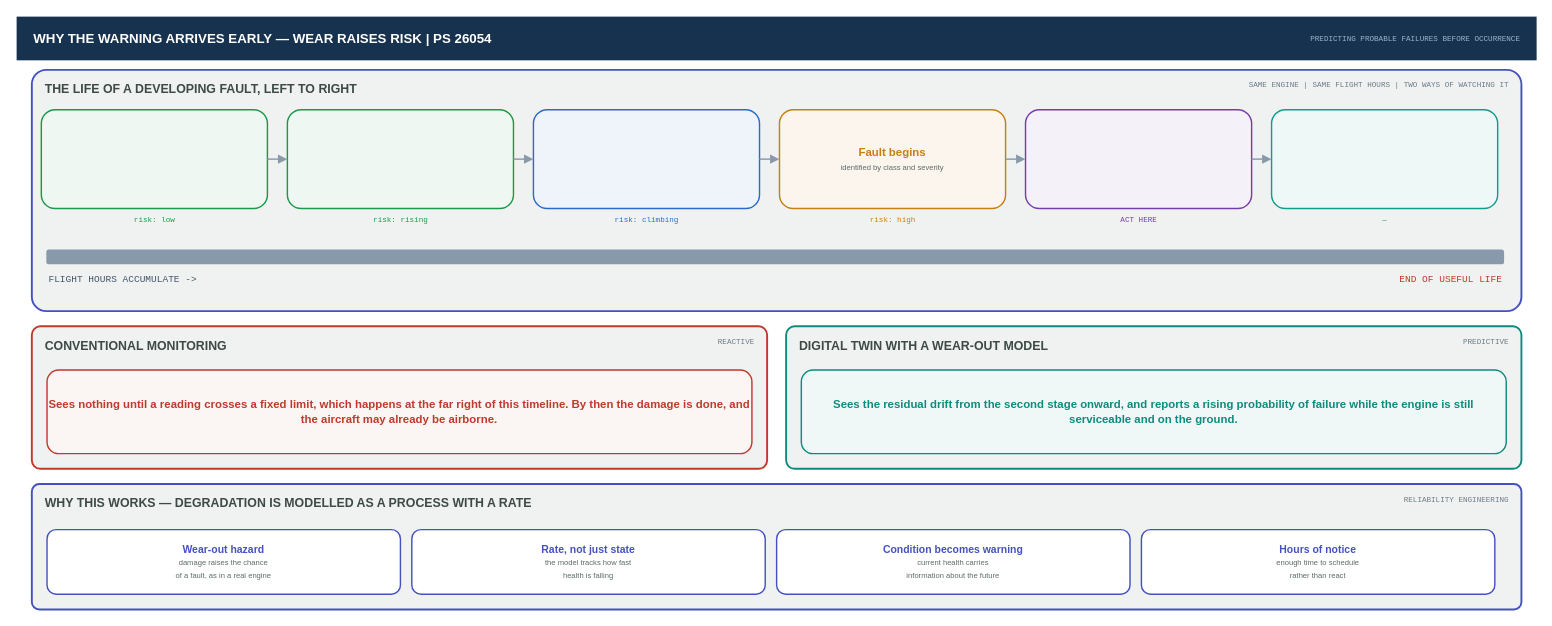
Some shapes in this 1552 by 626 pixel diagram are drawn without their labels. The centre of each missing label's shape, as x and y in pixels:
"Advisory issued action, deadline, evidence" goes at pixel 1138 159.
"Engine as-new no measurable residual" goes at pixel 154 159.
"Failure avoided engine serviced on the ground" goes at pixel 1384 159.
"Health index falls trend detected, still serviceable" goes at pixel 646 159.
"Wear accumulates residuals begin to drift" goes at pixel 400 159.
